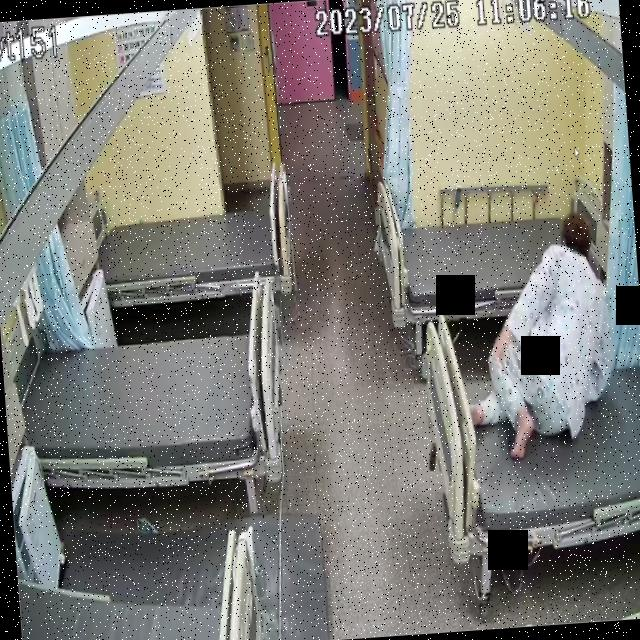bed: (420, 301, 640, 561), (15, 321, 288, 491), (374, 192, 616, 328), (97, 194, 292, 306)
danger: (435, 198, 607, 469)
patient: (440, 195, 604, 466)
